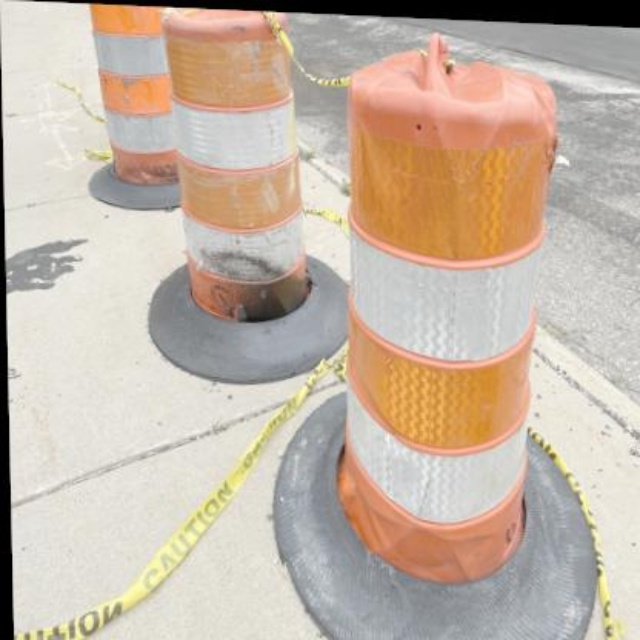obstacle: (326, 25, 565, 582), (168, 10, 297, 324)
